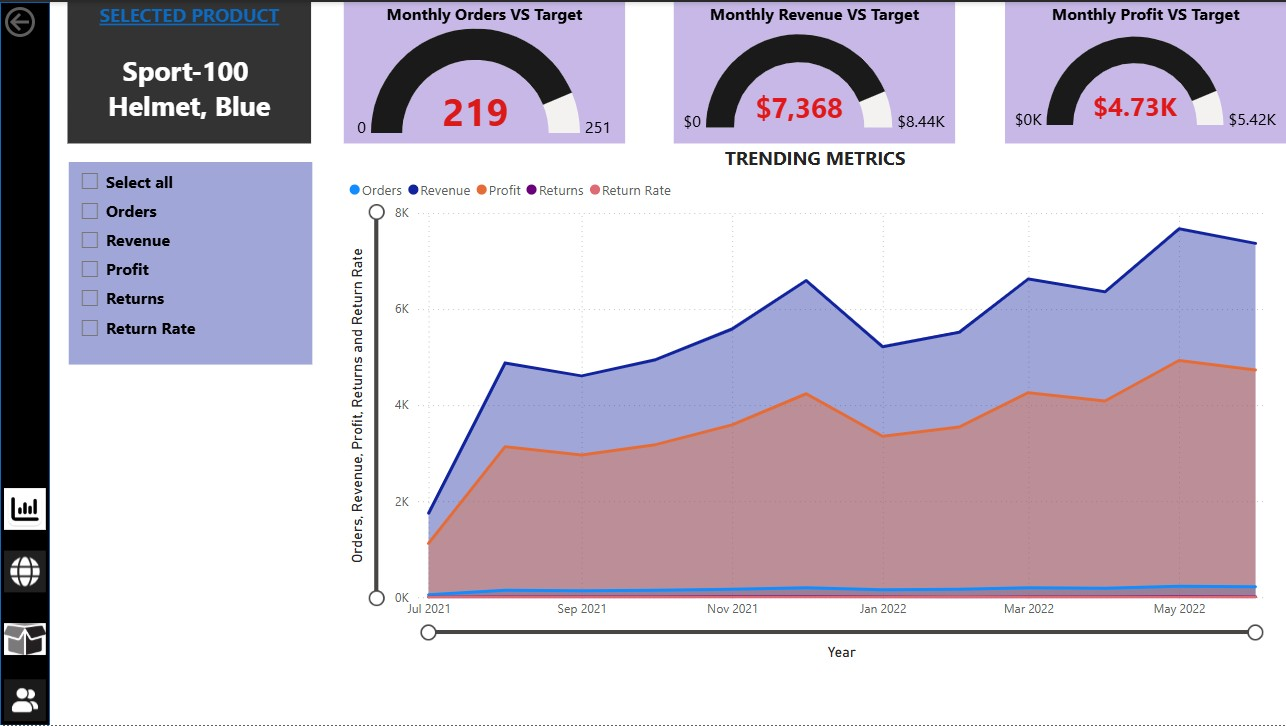

This screenshot's page, from the dashboard's own definition file:
{"tool":"powerbi","page":{"name":"Product","canvas":[1280,720],"ordinal":2},"visuals":[{"type":"shape","box":[0,0,49.8,720.3],"z":0},{"type":"actionButton","box":[0,479,49.8,51],"z":0,"group":"g1"},{"type":"gauge","title":"Monthly Orders VS Target","fields":{"Y":["Measures Table.Total orders"],"MaxValue":["Measures Table.Order Target"]},"box":[341.9,0,279.8,140.7],"z":1000},{"type":"actionButton","box":[0,541.2,49.8,51],"z":1000,"group":"g1"},{"type":"gauge","title":"Monthly Revenue VS Target","fields":{"Y":["Measures Table.Total revenue X"],"MaxValue":["Measures Table.Target revenue"]},"box":[670.1,0,279.8,140.7],"z":2000},{"type":"actionButton","box":[0,669.3,49.8,51],"z":2000,"group":"g1"},{"type":"gauge","title":"Monthly Profit VS Target","fields":{"Y":["Measures Table.Total Profit"],"MaxValue":["Measures Table.Profit Taregt"]},"box":[999.9,0,279.8,140.7],"z":3000},{"type":"actionButton","box":[0,608.4,49.8,51],"z":3000,"group":"g1"},{"type":"areaChart","title":"TRENDING METRICS","fields":{"Category":["Calendar Lookup.Start of Month.Variation.Date Hierarchy.Year","Calendar Lookup.Start of Month.Variation.Date Hierarchy.Quarter","Calendar Lookup.Start of Month.Variation.Date Hierarchy.Month","Calendar Lookup.Start of Month.Variation.Date Hierarchy.Day"],"Y":["Measures Table.Total orders","Measures Table.Total revenue X","Measures Table.Total Profit","Measures Table.Total Returns","Measures Table.Return Rate"]},"box":[342.1,141.8,937.9,517.5],"z":5000},{"type":"actionButton","box":[0,0,99.5,39.8],"z":6000},{"type":"card","title":"SELECTED PRODUCT","fields":{"Values":["Min(Product Lookup.ProductName)"]},"box":[67.2,0,242.6,140.6],"z":7000},{"type":"group","id":"g1","title":"Custom navigation button","box":[0,479,49.1,240.9],"z":8000},{"type":"slicer","fields":{"Values":["Product metric selection.Product metric selection"]},"box":[67.8,158.7,242.4,202],"z":8001}]}

Visuals, with their boxes on the page's 1280x720 design canvas (x1, y1, x2, y2). These are canvas units, not pixel positions in the 1286x726 screenshot, which may show the page scaled, cropped or inside an application window:
shape: [left=0, top=0, right=50, bottom=720]
actionButton: [left=0, top=479, right=50, bottom=530]
"Monthly Orders VS Target" gauge: [left=342, top=0, right=622, bottom=141]
actionButton: [left=0, top=541, right=50, bottom=592]
"Monthly Revenue VS Target" gauge: [left=670, top=0, right=950, bottom=141]
actionButton: [left=0, top=669, right=50, bottom=720]
"Monthly Profit VS Target" gauge: [left=1000, top=0, right=1280, bottom=141]
actionButton: [left=0, top=608, right=50, bottom=659]
"TRENDING METRICS" areaChart: [left=342, top=142, right=1280, bottom=659]
actionButton: [left=0, top=0, right=100, bottom=40]
"SELECTED PRODUCT" card: [left=67, top=0, right=310, bottom=141]
"Custom navigation button" group: [left=0, top=479, right=49, bottom=720]
slicer - Product metric selection.Product metric selection: [left=68, top=159, right=310, bottom=361]
